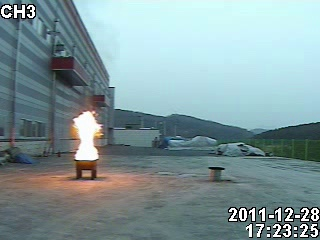fire: (70, 108, 103, 163)
